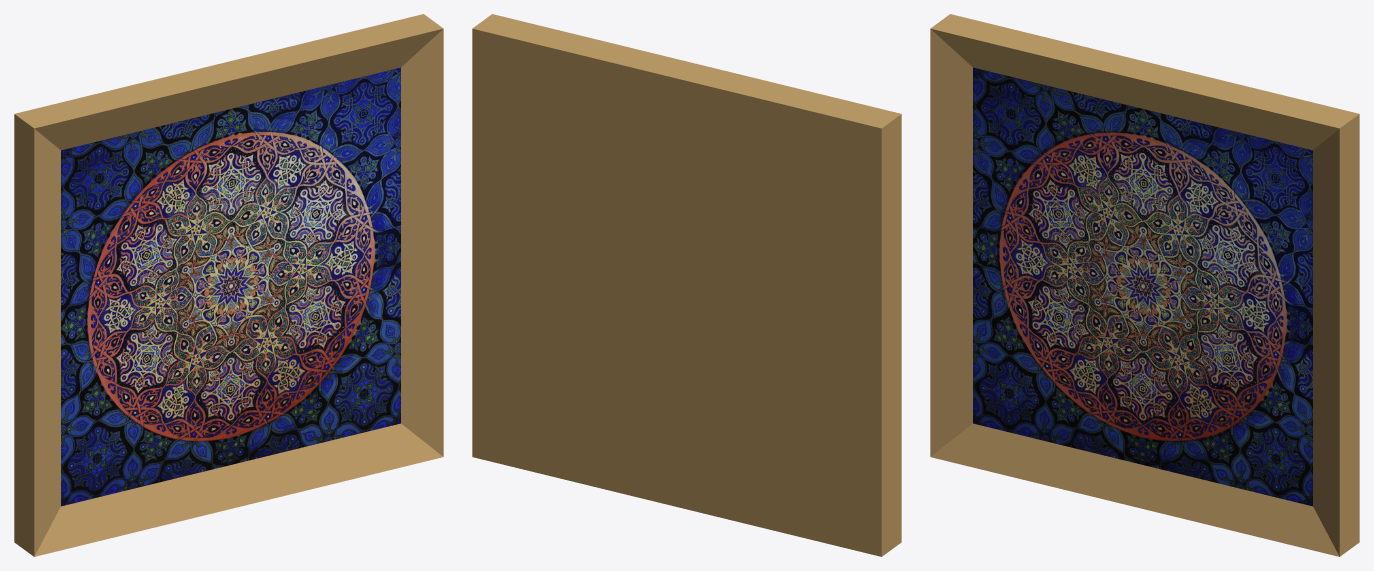
File: peacock-minerva-peacock-persian-indigo-a3-natural-oak-v2.glb
The picture shows the model from 3 angles, left to right: view 1: azimuth 30°, elevation 25°; view 2: azimuth 150°, elevation 25°; view 3: azimuth 330°, elevation 25°; orthographic projection.
Visible parts, largest first — view 1: FramedPrint; view 2: FramedPrint; view 3: FramedPrint.
Boxes of the visible parts, x1,y1,x2,y2 form: FramedPrint: [14, 14, 443, 556]; FramedPrint: [472, 14, 901, 556]; FramedPrint: [930, 14, 1359, 556].
Bounding box in the file's own units: 0.355 × 0.355 × 0.03.
Materials: 2 (1 with a texture image).
